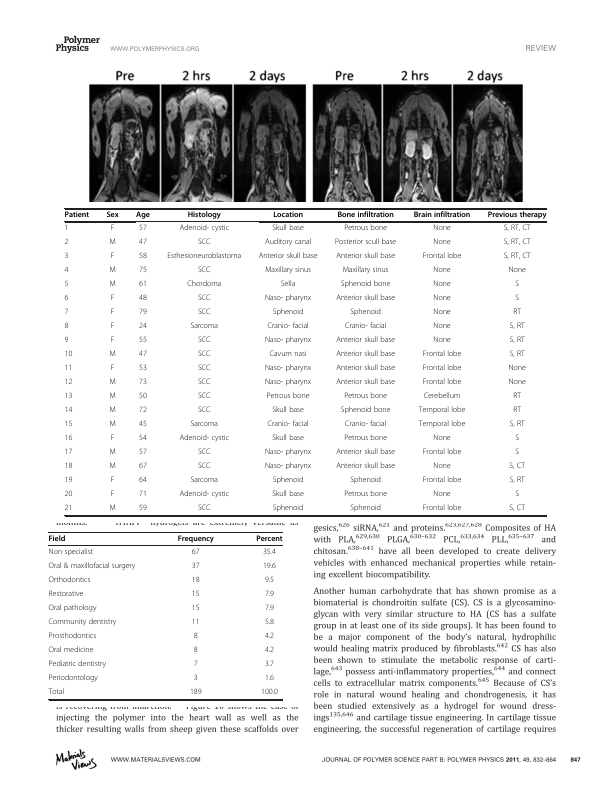borderless: (63, 207, 546, 515), (47, 531, 282, 699)
cell: (48, 562, 136, 572), (166, 252, 242, 262), (48, 618, 117, 628), (334, 238, 397, 248), (335, 252, 396, 262), (335, 294, 396, 304), (335, 336, 396, 346), (335, 350, 396, 360), (335, 364, 396, 374), (335, 378, 396, 388), (335, 448, 396, 458), (335, 462, 396, 472), (258, 252, 318, 262), (48, 660, 107, 670), (487, 211, 547, 220), (336, 211, 395, 220), (413, 211, 471, 220), (178, 224, 230, 234), (178, 434, 230, 444), (178, 490, 230, 500), (48, 674, 99, 684), (340, 280, 391, 290), (340, 406, 391, 416), (48, 604, 97, 614), (48, 632, 97, 642), (264, 238, 312, 248), (264, 266, 312, 276), (264, 294, 312, 304), (264, 336, 312, 346), (264, 364, 312, 374), (264, 378, 312, 388), (418, 406, 466, 416), (418, 420, 466, 430), (264, 448, 312, 458), (264, 462, 312, 472), (342, 266, 389, 276), (48, 548, 94, 558), (48, 646, 94, 656), (343, 224, 388, 234), (343, 392, 388, 402), (343, 434, 388, 444), (343, 490, 388, 500), (266, 322, 310, 332), (266, 392, 310, 402), (266, 420, 310, 430), (48, 576, 91, 586), (344, 322, 387, 332), (344, 420, 387, 430), (422, 252, 462, 262), (268, 350, 308, 360), (422, 350, 462, 360), (422, 364, 462, 374), (422, 378, 462, 388), (422, 448, 462, 458), (422, 476, 462, 486), (422, 504, 462, 514), (423, 392, 461, 402), (48, 590, 84, 600), (186, 280, 222, 290), (177, 535, 215, 544), (271, 224, 305, 234), (271, 406, 305, 416), (271, 434, 305, 444), (271, 490, 305, 500), (349, 308, 382, 318), (349, 476, 382, 486), (349, 504, 382, 514), (272, 308, 304, 318), (272, 476, 304, 486), (272, 504, 304, 514), (187, 211, 222, 220), (189, 322, 219, 332), (189, 420, 219, 430), (189, 476, 219, 486), (503, 224, 532, 234), (503, 238, 532, 248), (503, 252, 532, 262), (272, 211, 304, 220), (255, 535, 283, 544), (64, 211, 90, 220), (432, 224, 452, 234), (432, 238, 452, 248), (432, 266, 452, 276), (507, 266, 527, 276), (432, 280, 452, 290), (432, 294, 452, 304), (432, 308, 452, 318), (432, 322, 452, 332), (432, 336, 452, 346), (507, 364, 527, 374), (507, 378, 527, 388), (432, 434, 452, 444), (432, 462, 452, 472), (432, 490, 452, 500), (260, 688, 279, 698), (508, 462, 526, 472), (508, 504, 526, 514), (48, 688, 65, 698), (509, 322, 526, 332), (509, 336, 526, 346), (509, 350, 526, 360), (509, 420, 526, 430), (509, 476, 526, 486), (48, 535, 66, 544), (280, 280, 296, 290), (262, 548, 277, 558), (262, 562, 277, 572), (135, 211, 151, 220), (197, 238, 211, 248), (197, 266, 211, 276), (197, 294, 211, 304), (197, 308, 211, 318), (197, 336, 211, 346), (197, 350, 211, 360), (197, 364, 211, 374), (197, 378, 211, 388), (197, 392, 211, 402), (197, 406, 211, 416), (197, 448, 211, 458), (197, 462, 211, 472), (197, 504, 211, 514), (105, 211, 120, 220), (189, 688, 202, 698), (264, 576, 275, 586), (264, 590, 275, 600), (264, 604, 275, 614), (264, 618, 275, 628), (264, 632, 275, 642), (264, 646, 275, 656), (264, 660, 275, 670), (264, 674, 275, 684), (138, 224, 148, 234), (138, 238, 148, 248), (138, 252, 148, 262), (138, 266, 148, 276), (138, 280, 148, 290), (138, 294, 148, 304), (138, 308, 148, 318), (512, 308, 522, 318), (138, 322, 148, 332), (138, 336, 148, 346), (138, 350, 148, 360), (138, 364, 148, 374), (138, 378, 148, 388), (138, 392, 148, 402), (512, 392, 522, 402), (138, 406, 148, 416), (512, 406, 522, 416), (138, 420, 148, 430), (138, 434, 148, 444), (138, 448, 148, 458), (138, 462, 148, 472), (138, 476, 148, 486), (138, 490, 148, 500), (138, 504, 148, 514), (191, 548, 200, 558), (191, 562, 200, 572), (191, 576, 200, 586), (191, 590, 200, 600), (191, 604, 200, 614), (191, 618, 200, 628), (108, 238, 117, 248), (108, 266, 117, 276), (108, 280, 117, 290), (64, 350, 73, 360), (108, 350, 117, 360), (64, 364, 73, 374), (64, 378, 73, 388), (108, 378, 117, 388), (64, 392, 73, 402), (108, 392, 117, 402), (64, 406, 73, 416), (108, 406, 117, 416), (64, 420, 73, 430), (108, 420, 117, 430), (64, 434, 73, 444), (64, 448, 73, 458), (108, 448, 117, 458), (64, 462, 73, 472), (108, 462, 117, 472), (64, 476, 73, 486), (64, 490, 73, 500), (64, 504, 73, 514), (108, 504, 117, 514), (193, 632, 199, 642), (193, 646, 199, 656), (193, 660, 199, 670), (193, 674, 199, 684), (514, 280, 520, 290), (514, 294, 520, 304), (514, 434, 520, 444), (514, 448, 520, 458), (514, 490, 520, 500), (64, 224, 69, 234), (110, 224, 115, 234), (64, 238, 69, 248), (64, 252, 69, 262), (110, 252, 115, 262), (64, 266, 69, 276), (64, 280, 69, 290), (64, 294, 69, 304), (110, 294, 115, 304), (64, 308, 69, 318), (110, 308, 115, 318), (64, 322, 69, 332), (110, 322, 115, 332), (64, 336, 69, 346), (110, 336, 115, 346), (110, 364, 115, 374), (110, 434, 115, 444), (110, 476, 115, 486), (110, 490, 115, 500)
